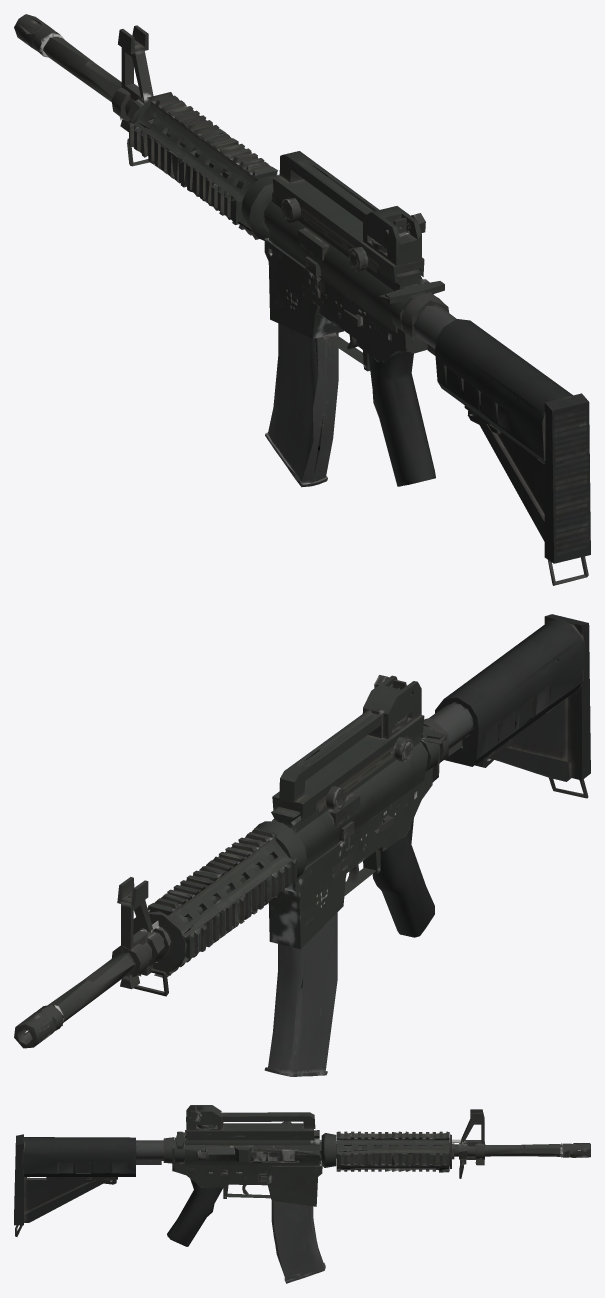
File: fuzil_m4a1_leve.glb
The picture shows the model from 3 angles, top to bottom: view 1: azimuth 30°, elevation 25°; view 2: azimuth 150°, elevation 25°; view 3: azimuth 270°, elevation 25°; orthographic projection. The views are drawn at different scales.
Visible parts, largest first — view 1: fuzil_m4a1_leve; view 2: fuzil_m4a1_leve; view 3: fuzil_m4a1_leve.
Boxes of the visible parts, left/top/right/bottom form: fuzil_m4a1_leve: left=14, top=14, right=590, bottom=585; fuzil_m4a1_leve: left=14, top=614, right=590, bottom=1076; fuzil_m4a1_leve: left=14, top=1105, right=590, bottom=1283.
Bounding box in the file's own units: 0.0593 × 0.2821 × 0.8483.
1 material, 1 textured.
